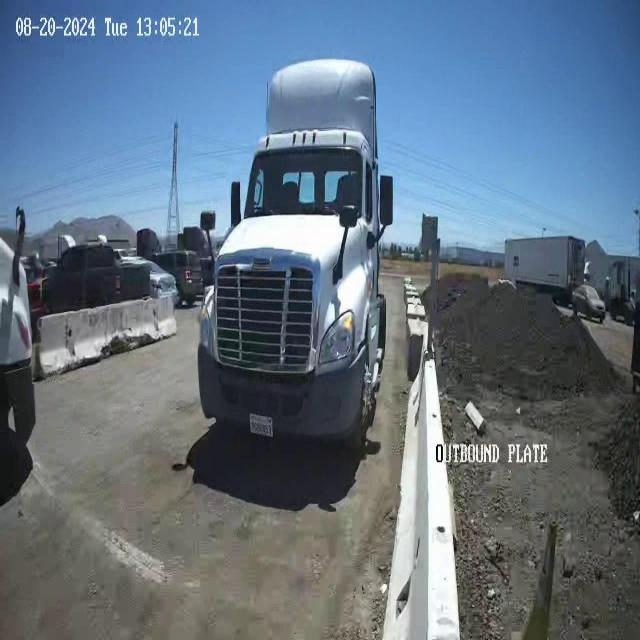TRUCK_OUT: (197, 57, 393, 451)
